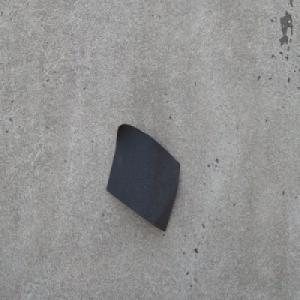PaintChip: (105, 121, 180, 232)
